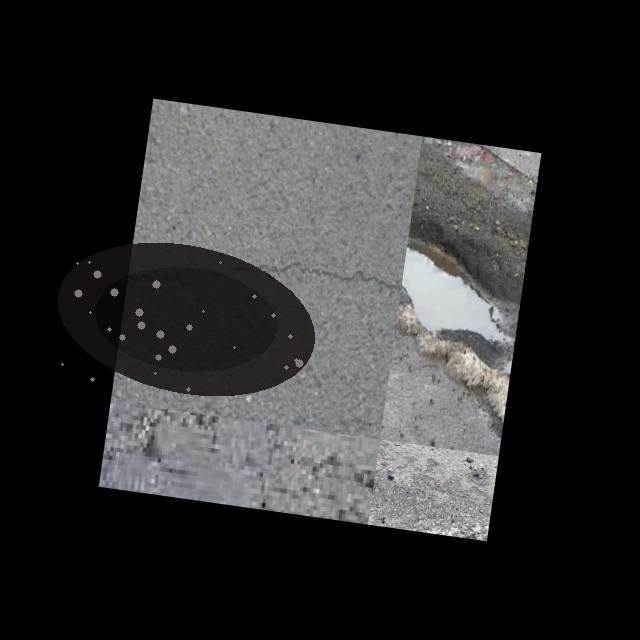pothole: (51, 241, 321, 397)
